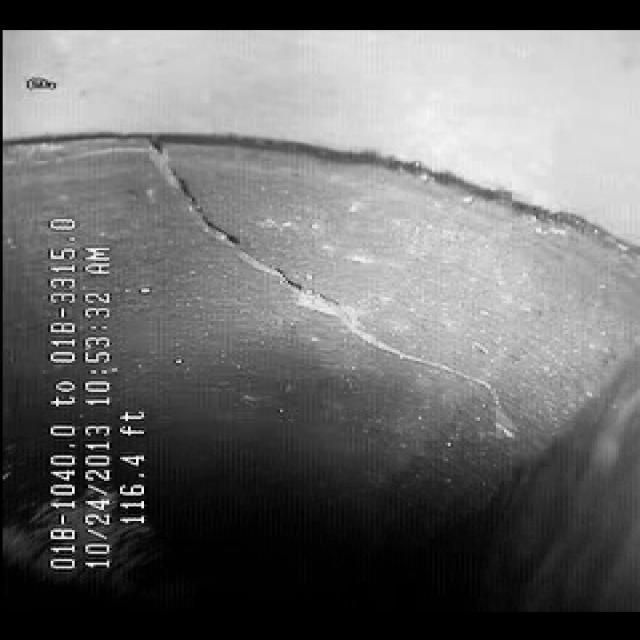Crack: (128, 154, 410, 379)
